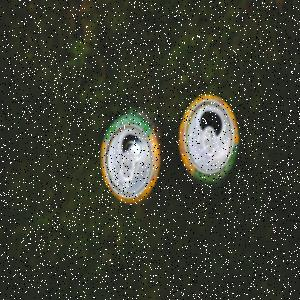Can: (101, 112, 161, 206), (180, 95, 240, 185)
